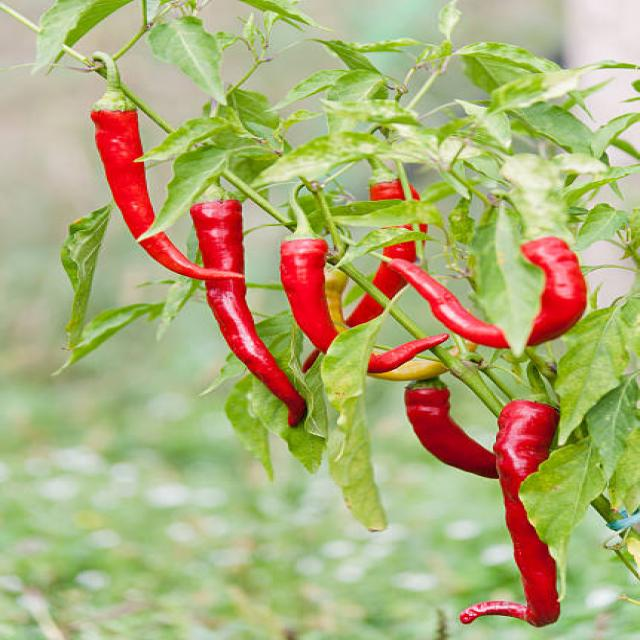Ripe: (91, 111, 252, 284), (192, 200, 304, 424), (489, 401, 558, 625), (371, 254, 507, 347), (405, 380, 496, 478), (523, 237, 585, 345), (281, 239, 336, 351), (368, 335, 447, 372), (462, 601, 521, 620)
